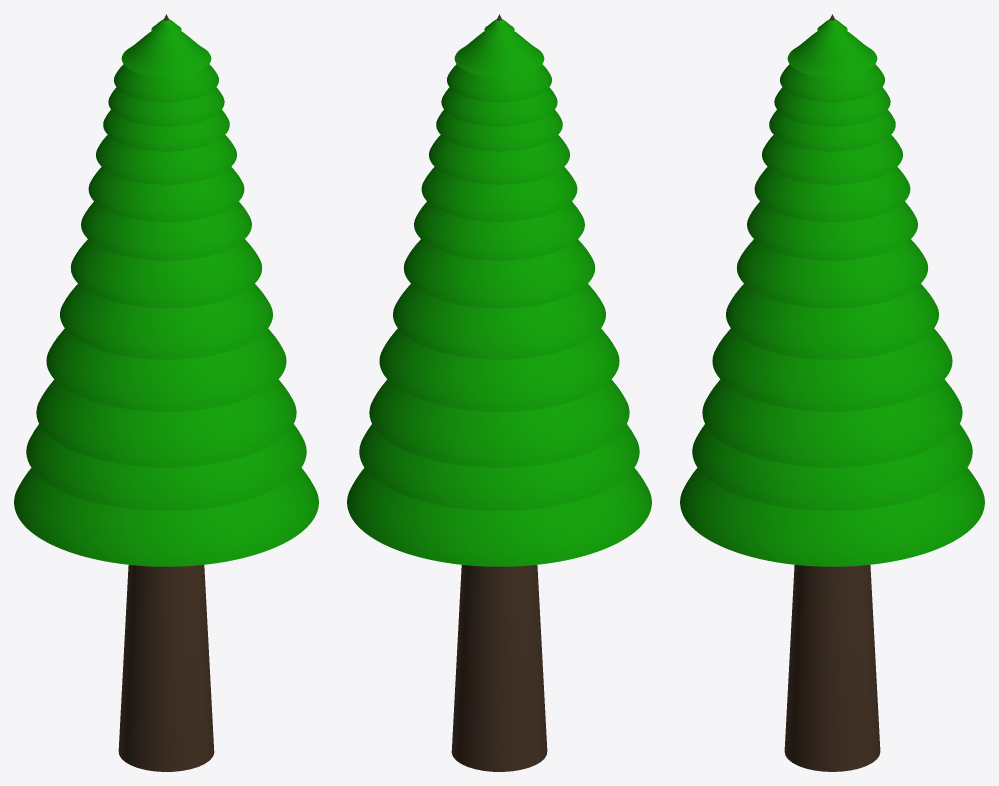
File: Tree.glb
3 views of the same model, side by side, from view 1: azimuth 30°, elevation 25°; view 2: azimuth 150°, elevation 25°; view 3: azimuth 270°, elevation 25° (orthographic).
Parts seen in each view (by area): view 1: Leaves, Trunk; view 2: Leaves, Trunk; view 3: Leaves, Trunk.
Part boxes in pixels (left/top/right/bottom): Leaves: left=14, top=19, right=318, bottom=566; Trunk: left=118, top=14, right=214, bottom=771; Leaves: left=347, top=19, right=651, bottom=566; Trunk: left=451, top=14, right=547, bottom=771; Leaves: left=680, top=19, right=984, bottom=566; Trunk: left=784, top=14, right=880, bottom=771.
Size of the model in its own units: 6.36 by 16.99 by 6.36.
